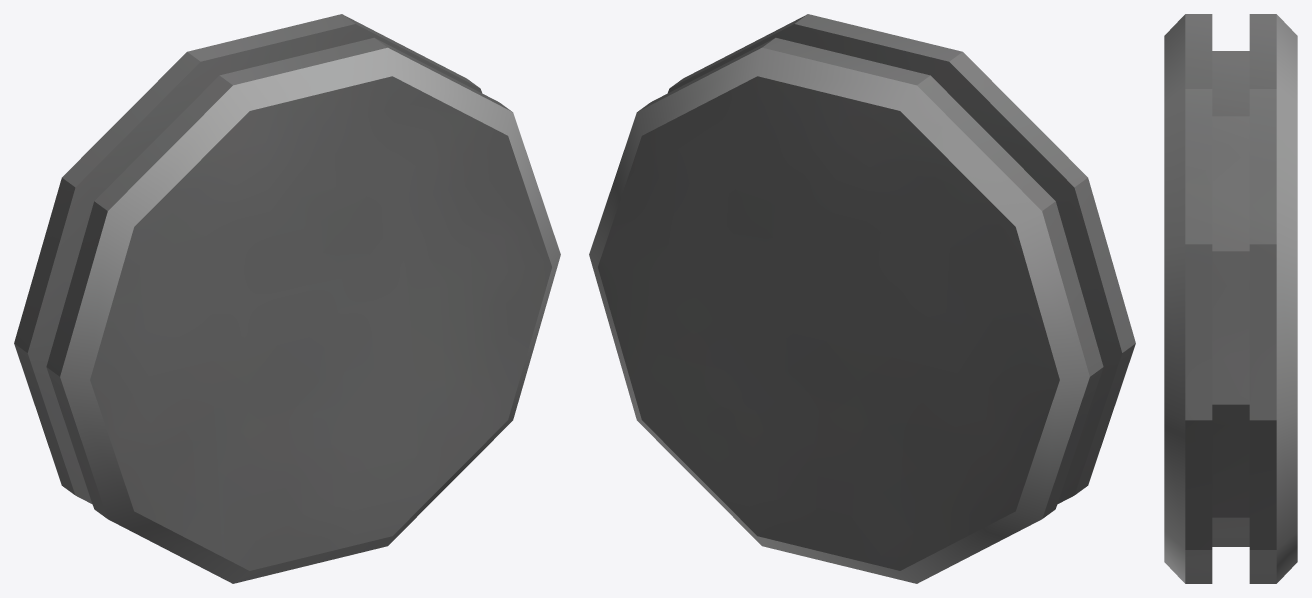
Rendered from big_wheel.fbx.
3 renders of one model, left to right at view 1: azimuth 30°, elevation 25°; view 2: azimuth 150°, elevation 25°; view 3: azimuth 270°, elevation 25°, orthographic.
Parts seen in each view (by area): view 1: big_wheel; view 2: big_wheel; view 3: big_wheel.
Boxes of the visible parts, x1=… form: big_wheel: x1=14, y1=14, x2=560, y2=583; big_wheel: x1=589, y1=14, x2=1135, y2=583; big_wheel: x1=1164, y1=14, x2=1297, y2=583.
Size of the model in its own units: 0.895 by 0.8512 by 0.2082.
